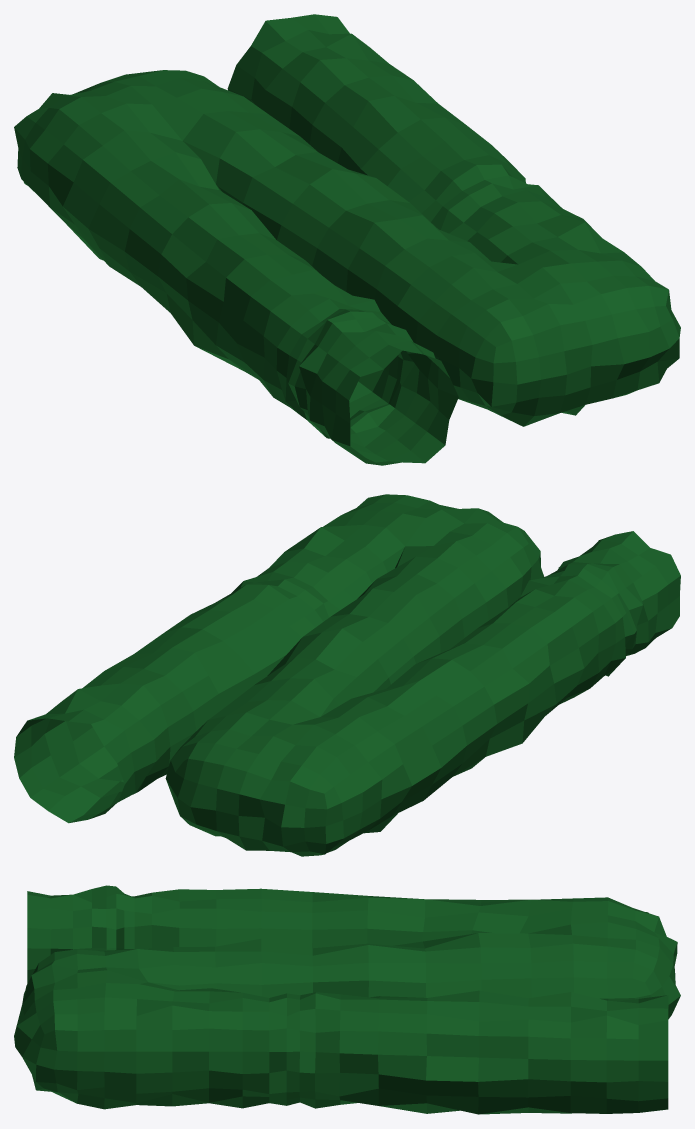
File: Cave_Angles.fbx
The picture shows the model from 3 angles, top to bottom: view 1: azimuth 30°, elevation 25°; view 2: azimuth 150°, elevation 25°; view 3: azimuth 270°, elevation 25°; orthographic projection. The views are drawn at different scales.
Parts seen in each view (by area): view 1: Cube; view 2: Cube; view 3: Cube.
Boxes of the visible parts, x1,y1,x2,y2 form: Cube: (14, 14, 680, 465); Cube: (14, 494, 680, 856); Cube: (14, 885, 680, 1114).
Size of the model in its own units: 7938 by 13978 by 2557.
